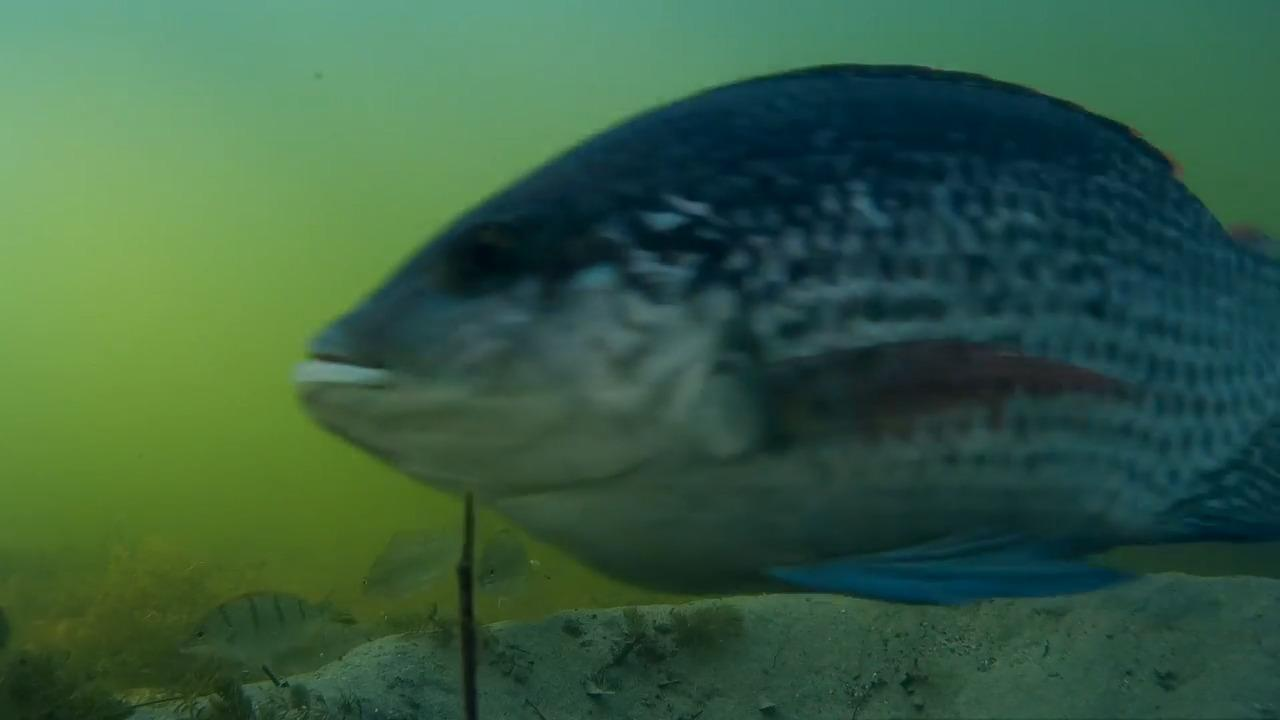Tilapia: (283, 38, 1280, 674), (163, 576, 348, 676), (345, 510, 450, 602), (475, 524, 560, 616)
